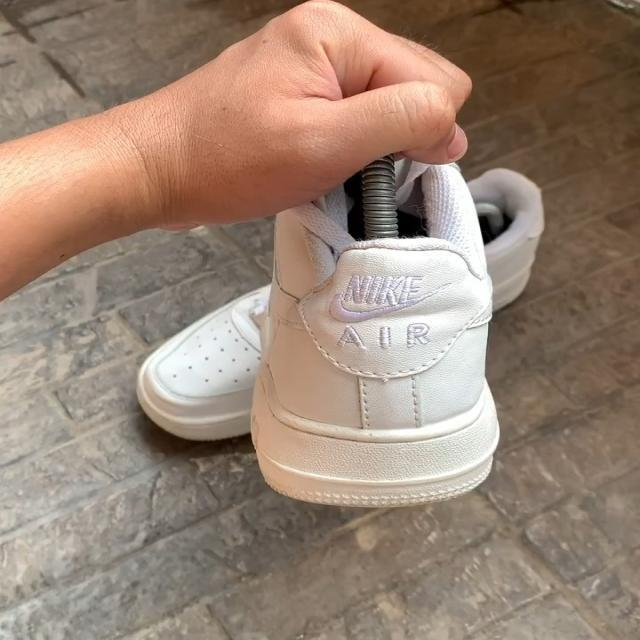nike fake air force: (245, 164, 500, 506)
